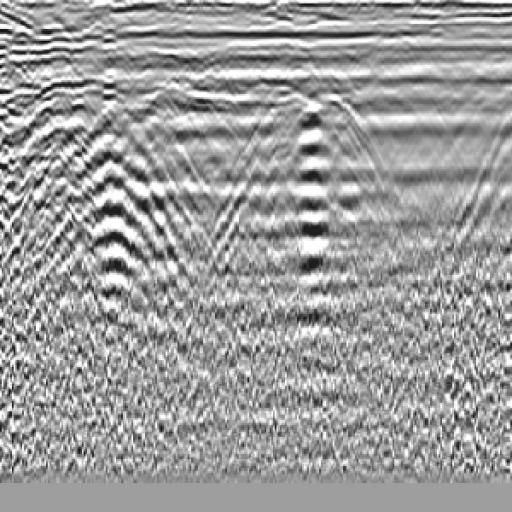metalic: (310, 80, 379, 134)
